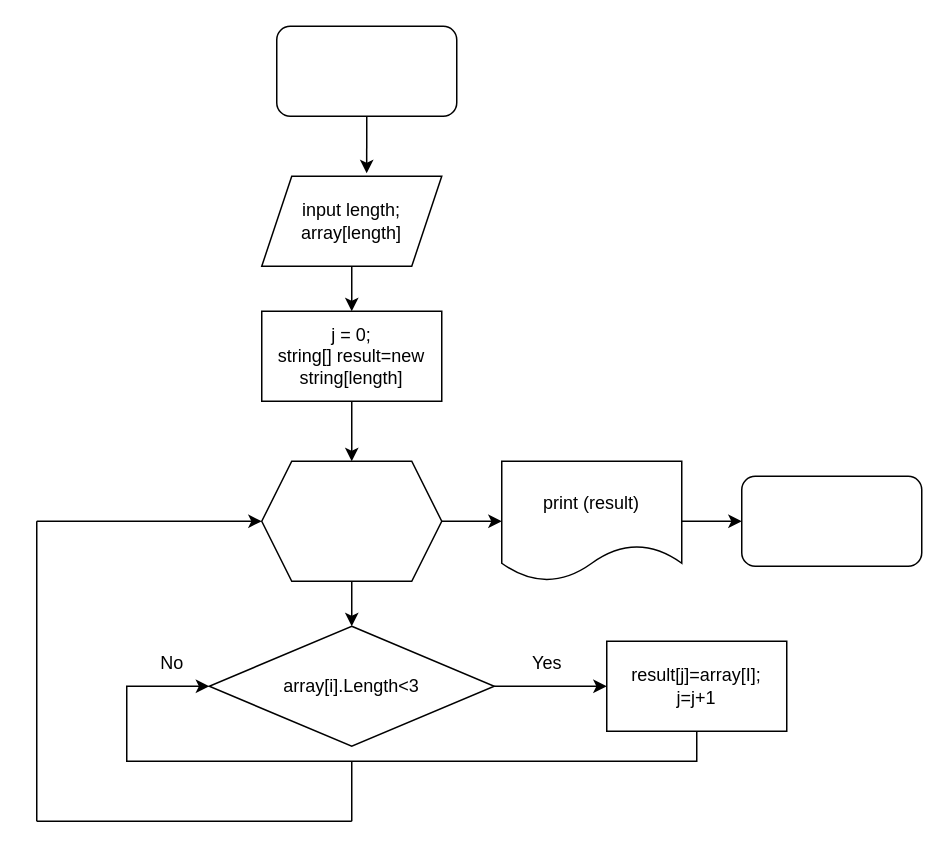
This 948x849 diagram has some shape labels left out. The shapes that lost their labels are listed below. From the top down, each one's centre as x and y in pixels, then its label:
(366,70): start
(351,520): i=0, length-1, 1
(831,520): end
